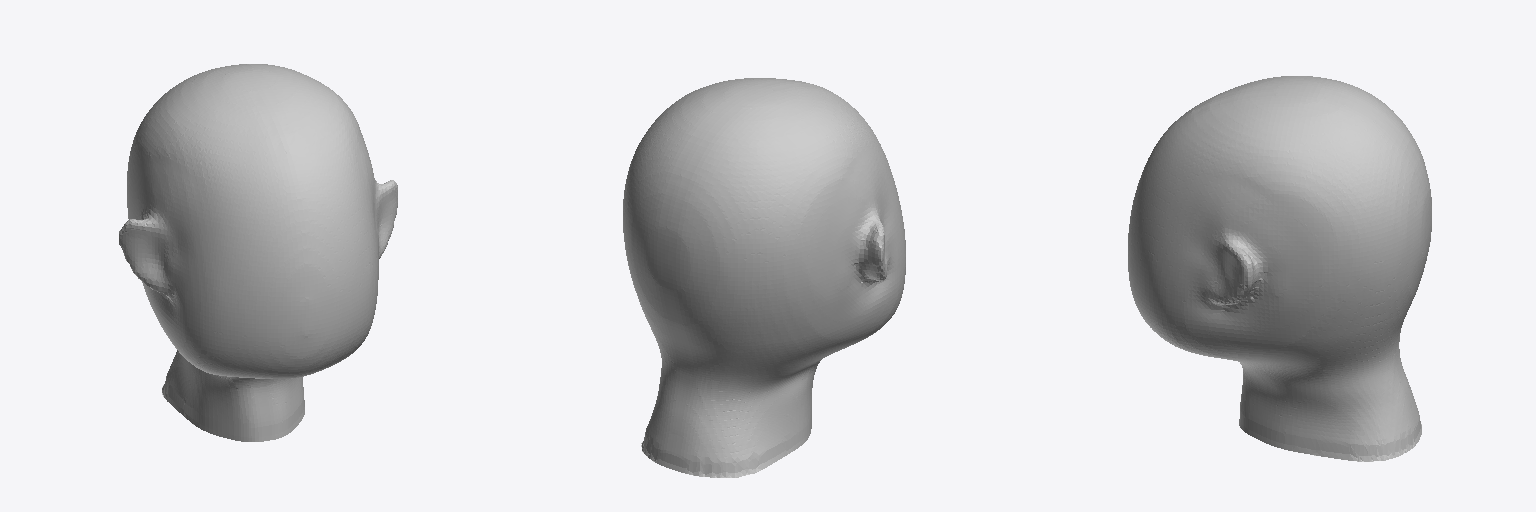
Rendered from head.obj.
3 views of the same model, side by side, from view 1: azimuth 30°, elevation 25°; view 2: azimuth 150°, elevation 25°; view 3: azimuth 270°, elevation 25° (orthographic).
Parts seen in each view (by area): view 1: MetaHumanHead_Textured.004; view 2: MetaHumanHead_Textured.004; view 3: MetaHumanHead_Textured.004.
Boxes of the visible parts, <box> form: MetaHumanHead_Textured.004: <box>119,64,397,441</box>; MetaHumanHead_Textured.004: <box>623,78,905,477</box>; MetaHumanHead_Textured.004: <box>1128,76,1431,461</box>.
Size of the model in its own units: 1.67 by 2.14 by 1.76.